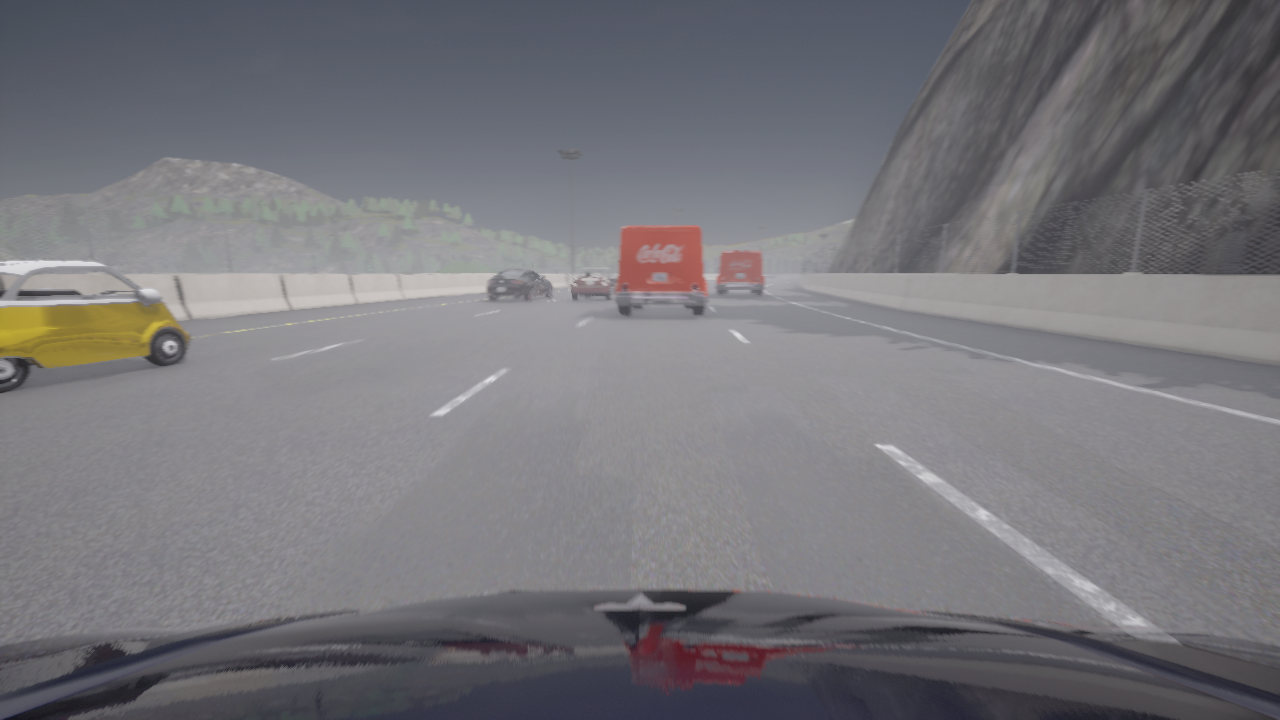cyclist: (0, 588, 1279, 719), (0, 259, 190, 393), (614, 226, 707, 315), (716, 250, 763, 294), (487, 268, 551, 300), (570, 268, 616, 300)
